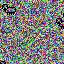sheep: (1, 4, 16, 16), (56, 18, 64, 29)
